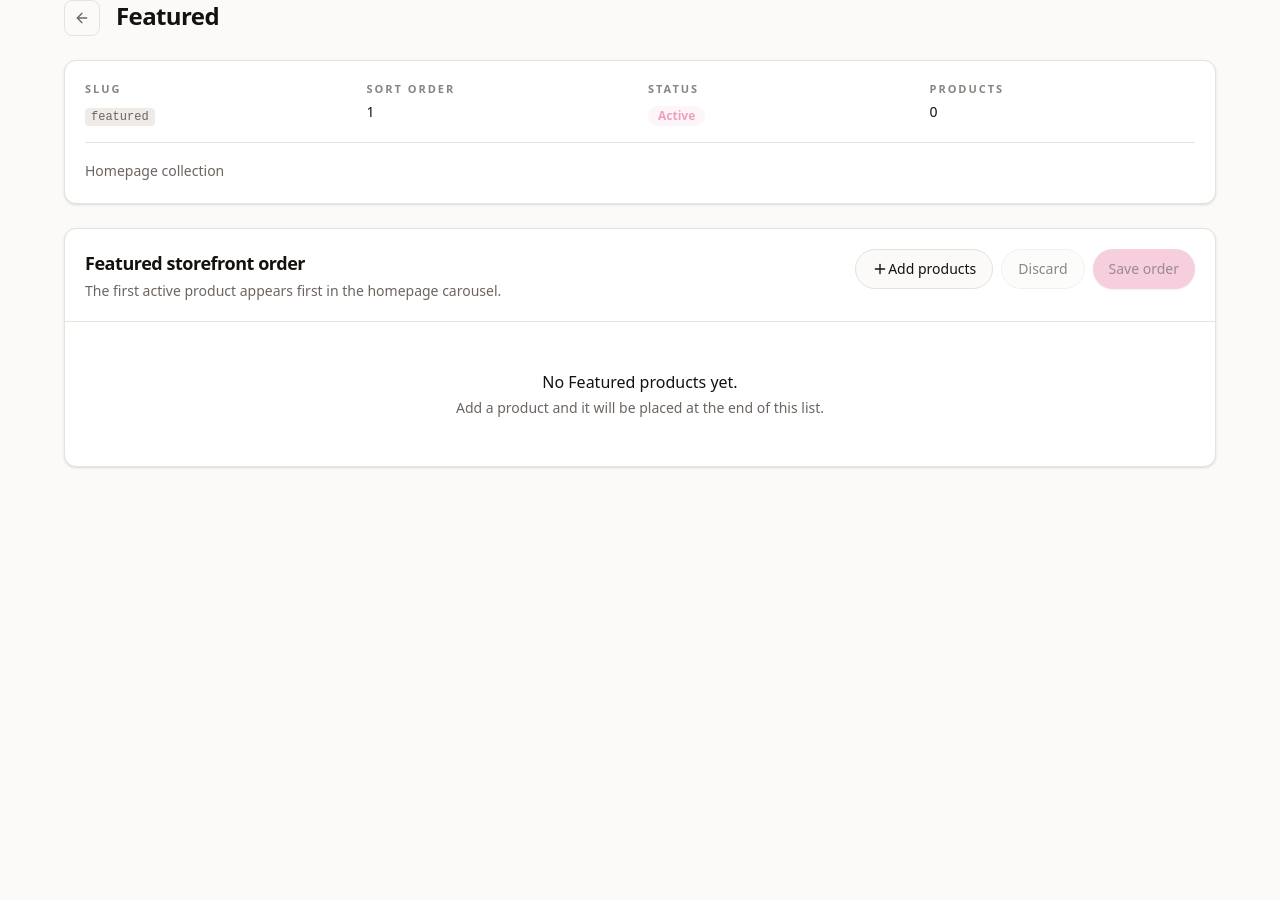
AdminCollectionDetailPageClient › loads and appends the next cursor once, deduplicates products, and preserves selection
The image size is (1280, 900).
Click the button "Add products" at coordinates (924, 268), box [855, 248, 993, 288]
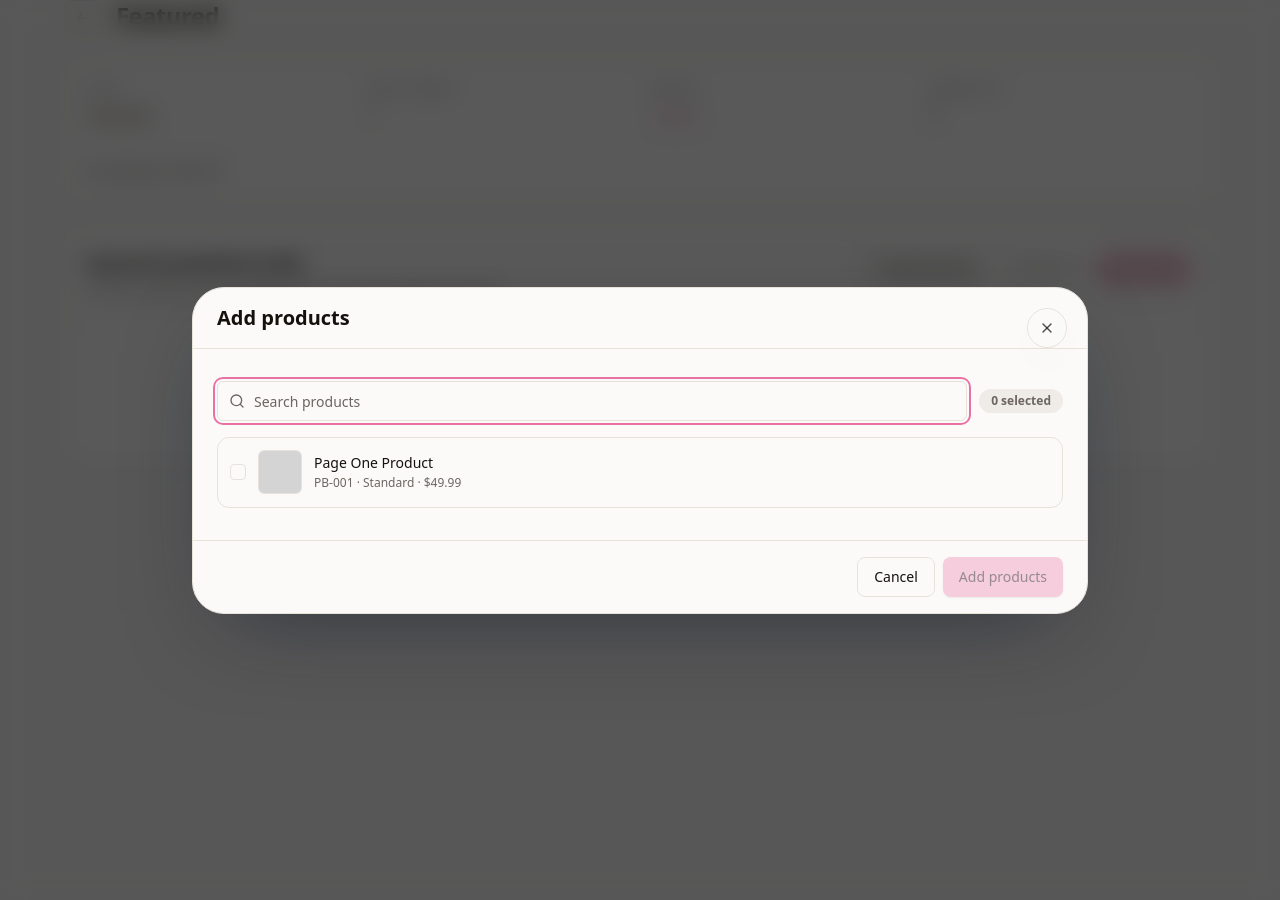
Click the checkbox named "Select Page One Product" at coordinates (238, 472), box [230, 464, 246, 480]
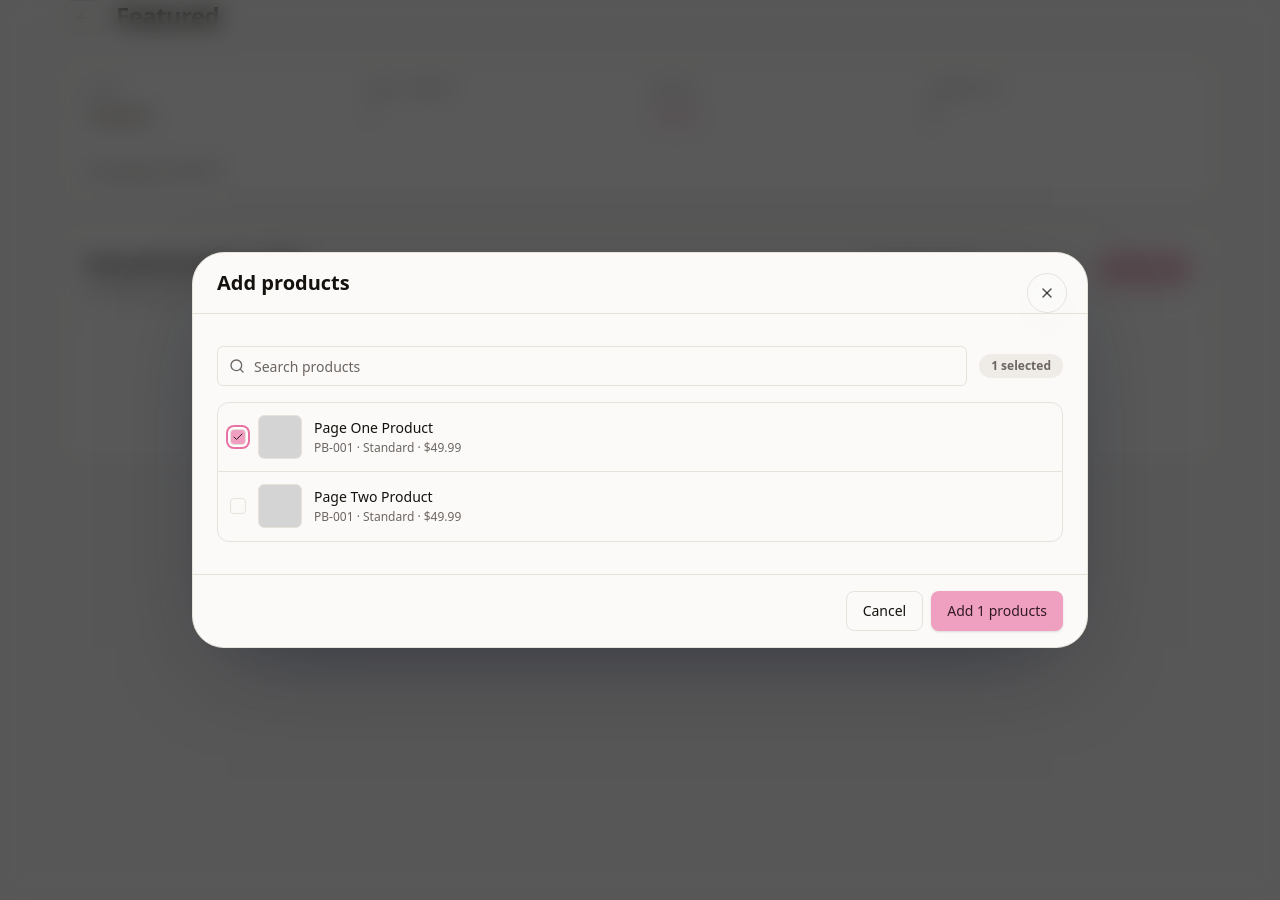
Expected: the text "Page Two Product" is shown, [314, 487, 433, 507]
Expected: the text "Page One Product" is shown once, [314, 418, 433, 438]
Expected: the text "1 selected" is shown, [979, 354, 1063, 378]
Click the button "Cancel" at coordinates (884, 611), box [846, 591, 923, 631]
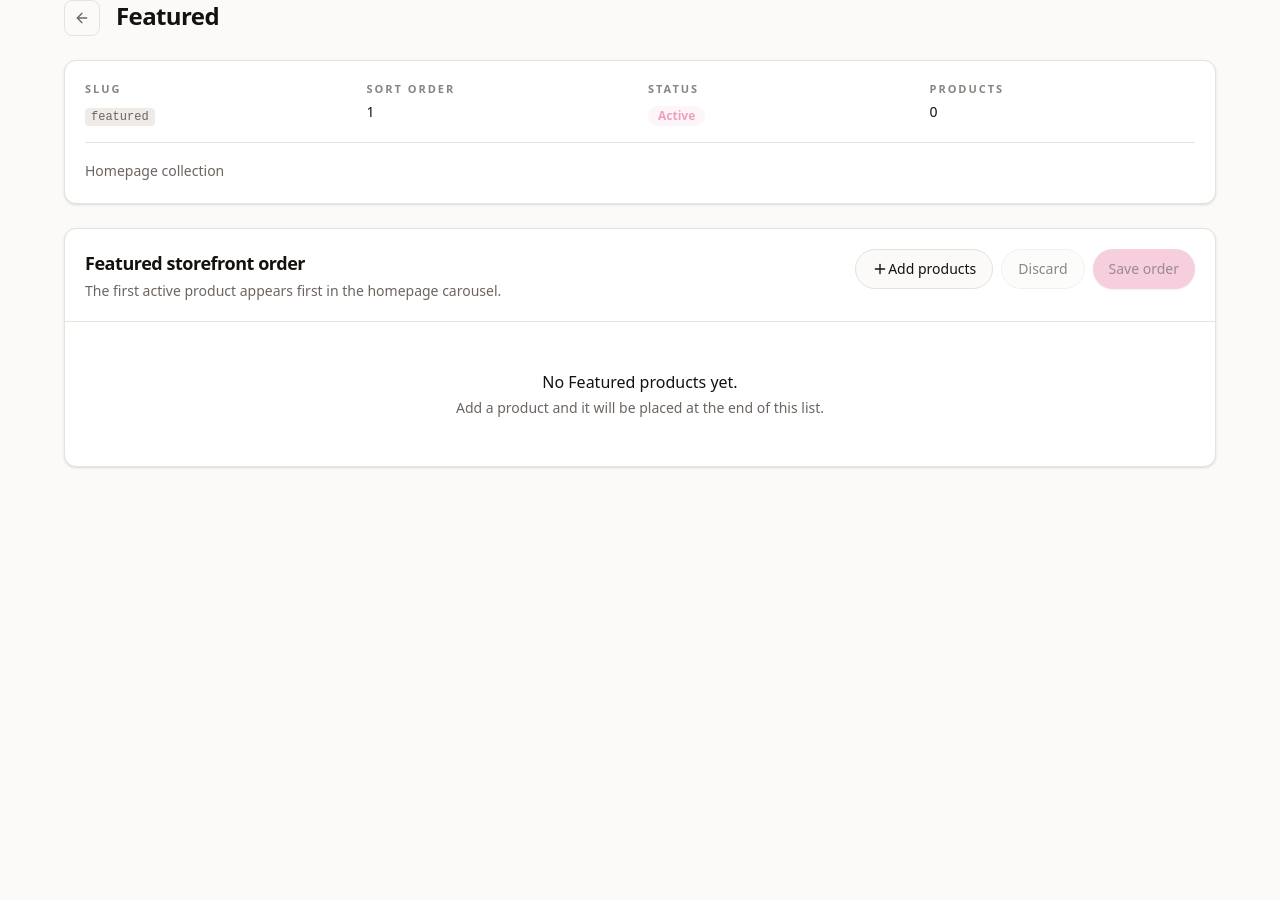
Click the button "Add products" at coordinates (924, 268), box [855, 248, 993, 288]
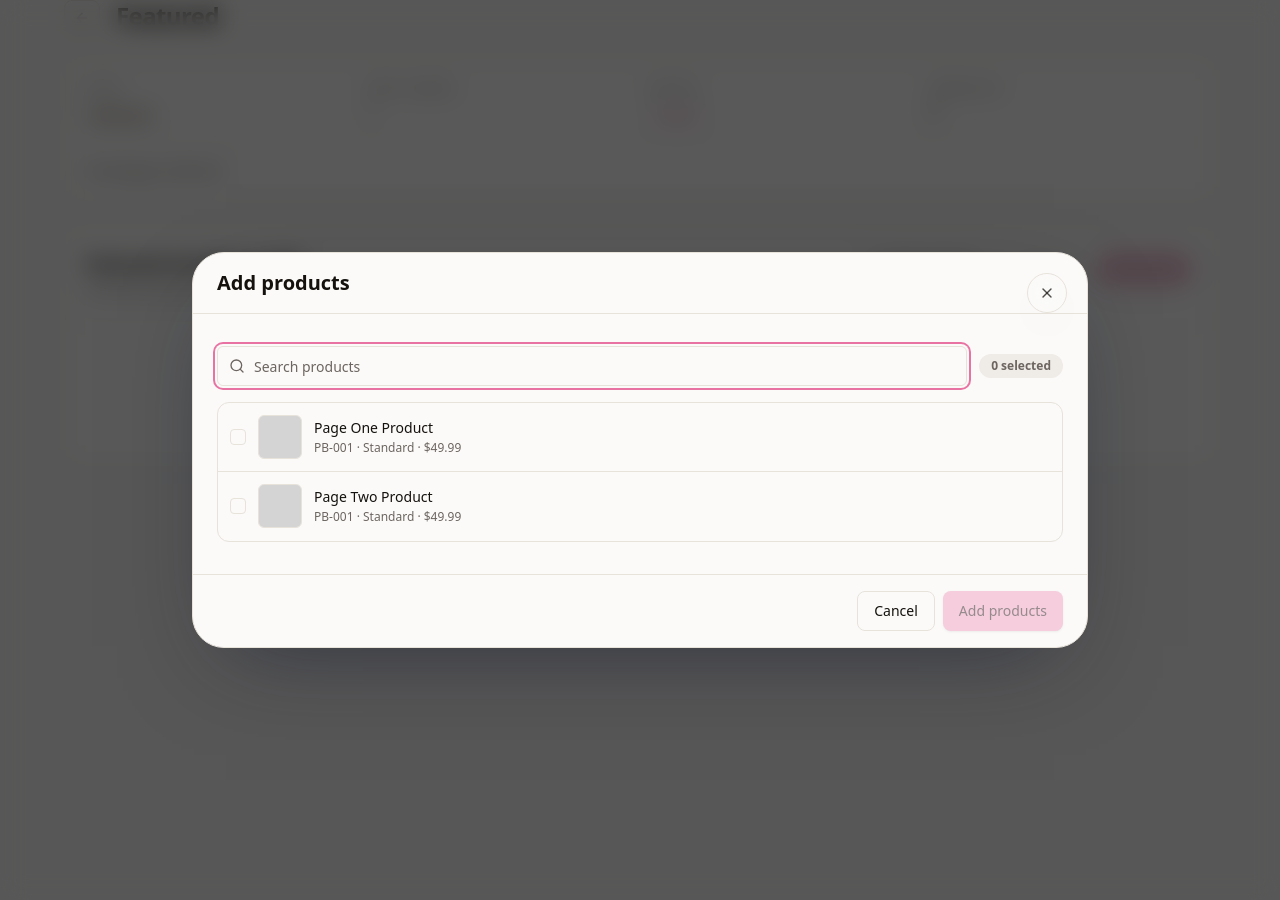
Expected: the text "Page Two Product" is shown, [314, 487, 433, 507]
Expected: the text "0 selected" is shown, [979, 354, 1063, 378]
